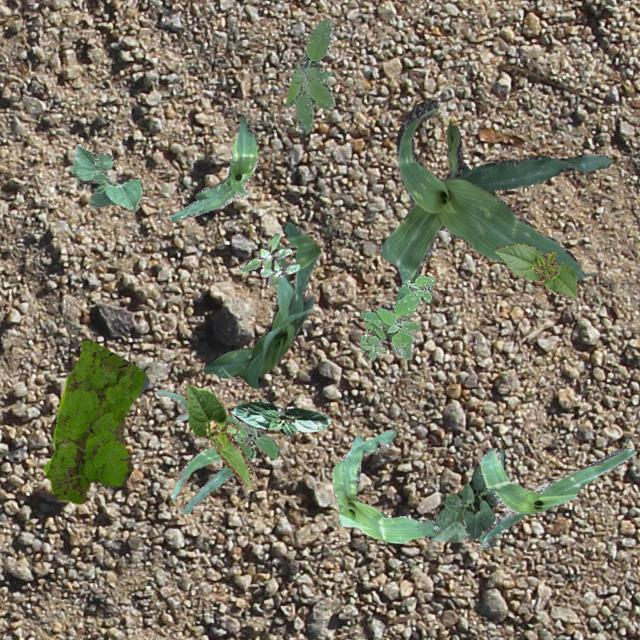crop: (378, 98, 610, 284), (202, 220, 320, 388), (478, 446, 636, 550), (154, 388, 254, 512), (332, 428, 439, 542), (170, 114, 258, 220), (182, 382, 256, 489), (428, 448, 503, 542), (70, 143, 142, 210), (494, 242, 576, 298), (228, 398, 329, 434)
weed: (44, 340, 148, 502), (358, 274, 434, 360), (284, 17, 334, 134), (238, 232, 298, 286), (232, 400, 278, 458)
